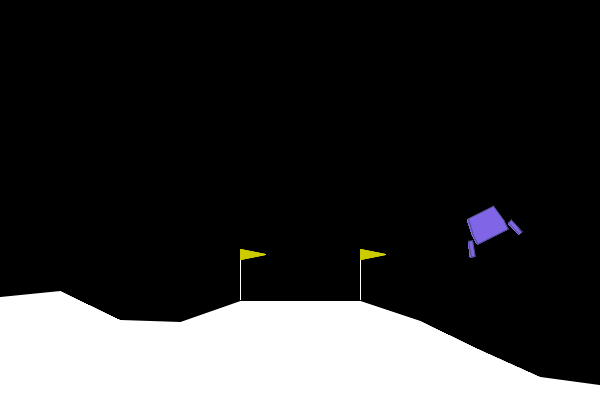lander: (453, 198, 524, 260)
